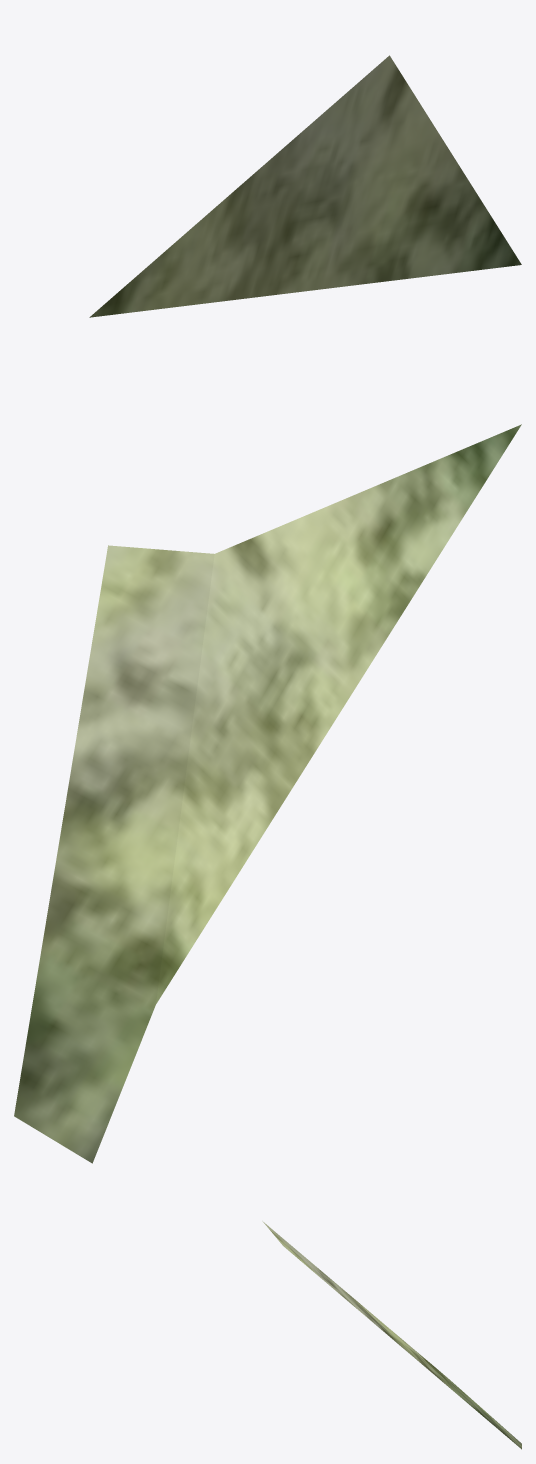
The picture shows the model from 3 angles, top to bottom: view 1: azimuth 30°, elevation 25°; view 2: azimuth 150°, elevation 25°; view 3: azimuth 270°, elevation 25°; orthographic projection. The views are drawn at different scales.
Bounding box in the file's own units: 0.4472 × 0.9751 × 1.79.
Materials: 1 (1 with a texture image).
